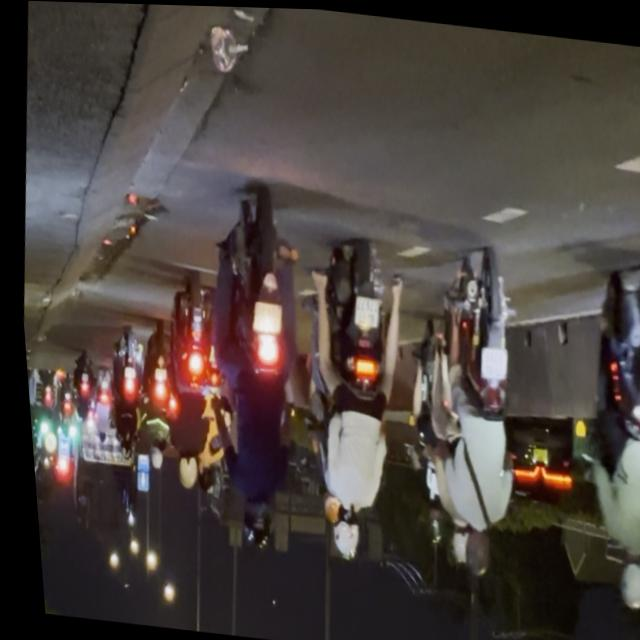helmet: (605, 545, 640, 608), (320, 503, 356, 557), (452, 524, 486, 575), (230, 500, 265, 549), (440, 520, 462, 562)
licenseplate: (178, 183, 319, 556), (281, 231, 419, 565), (406, 235, 534, 580), (554, 249, 640, 612)
nohelmet: (246, 299, 278, 332), (472, 344, 503, 377), (347, 293, 377, 327), (633, 362, 640, 396)
